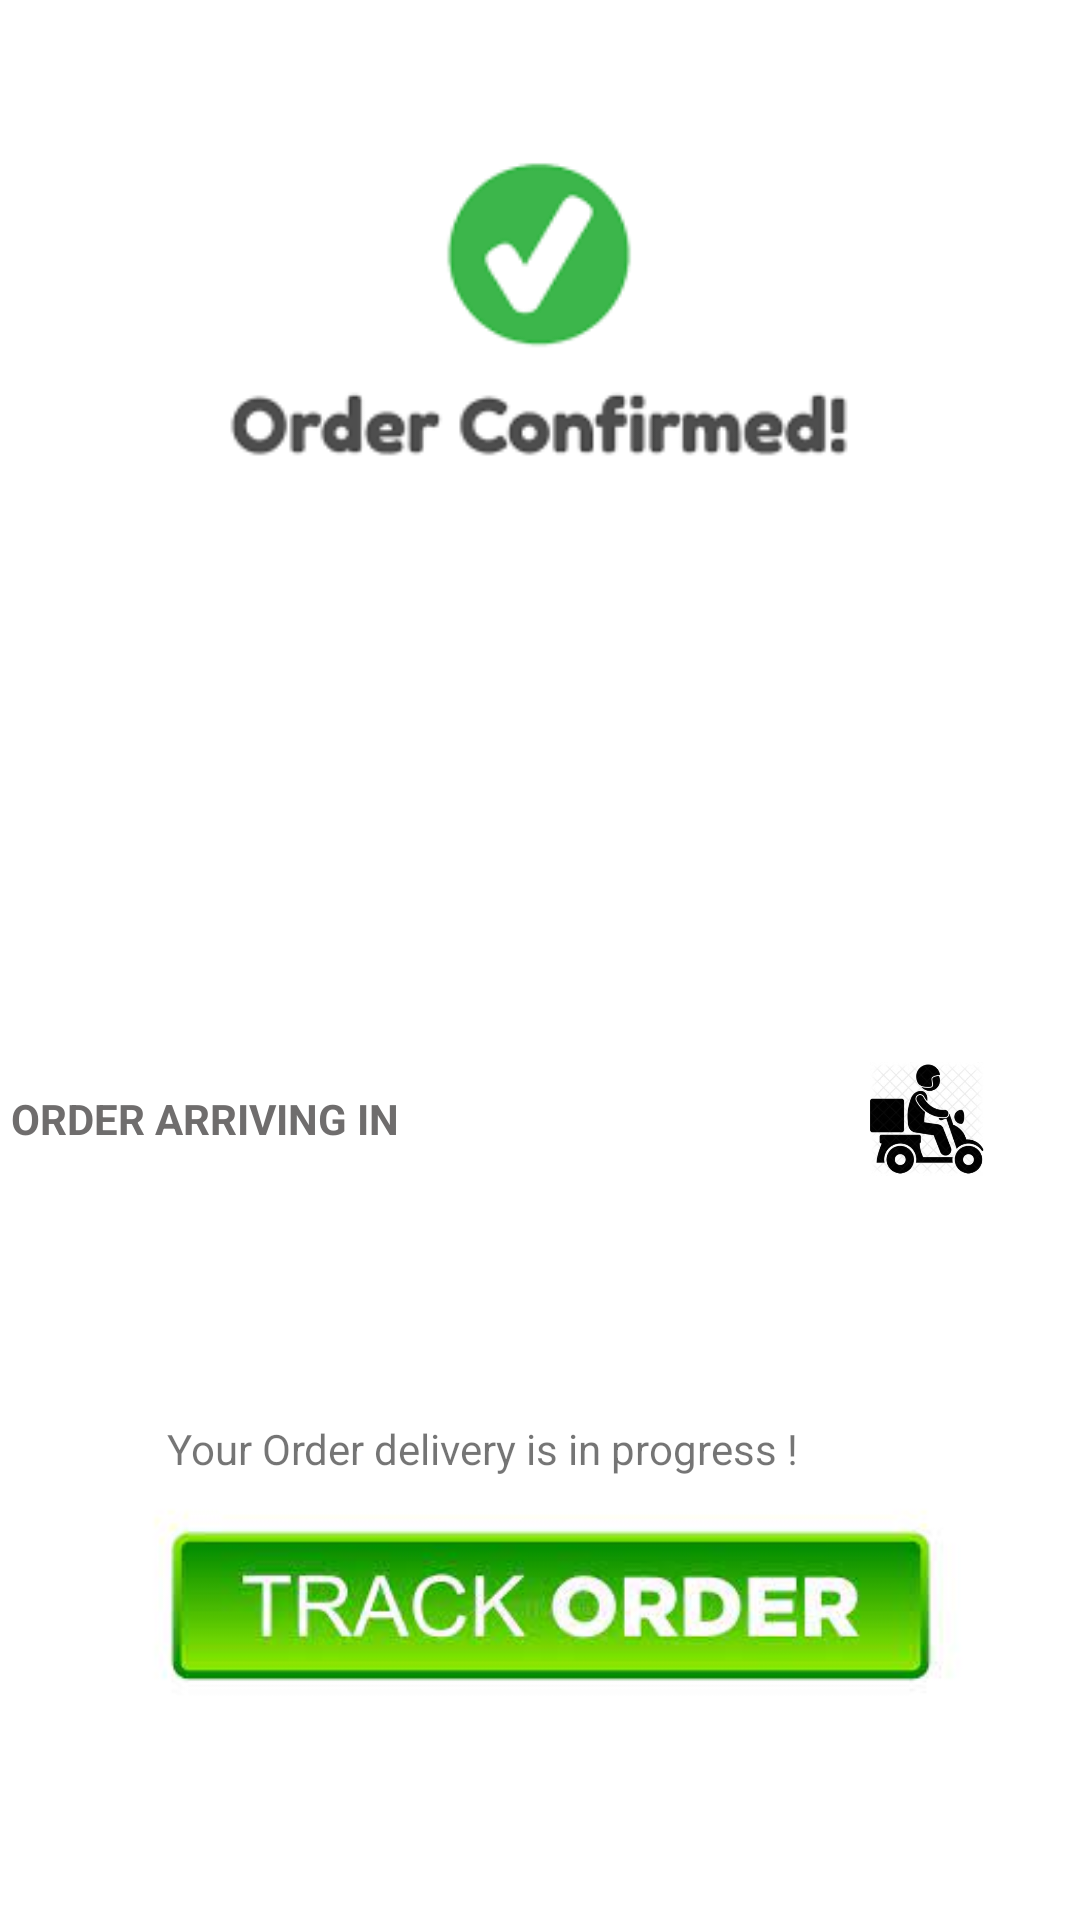

Icons on this 1080*1920 Android screen, each with its box as (x1, y1, x2, y2):
delivery man: (870, 1064, 984, 1174)
